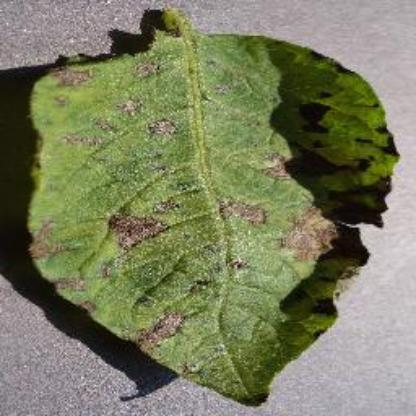Early-Blight: (15, 0, 416, 410)
